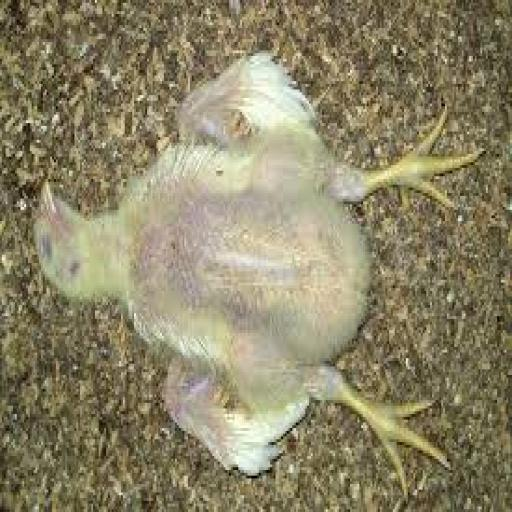disease: (40, 222, 74, 280)
